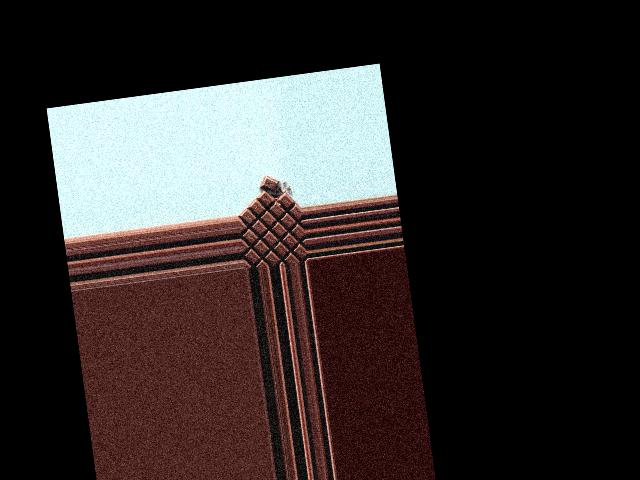chocolate: (236, 180, 307, 269)
